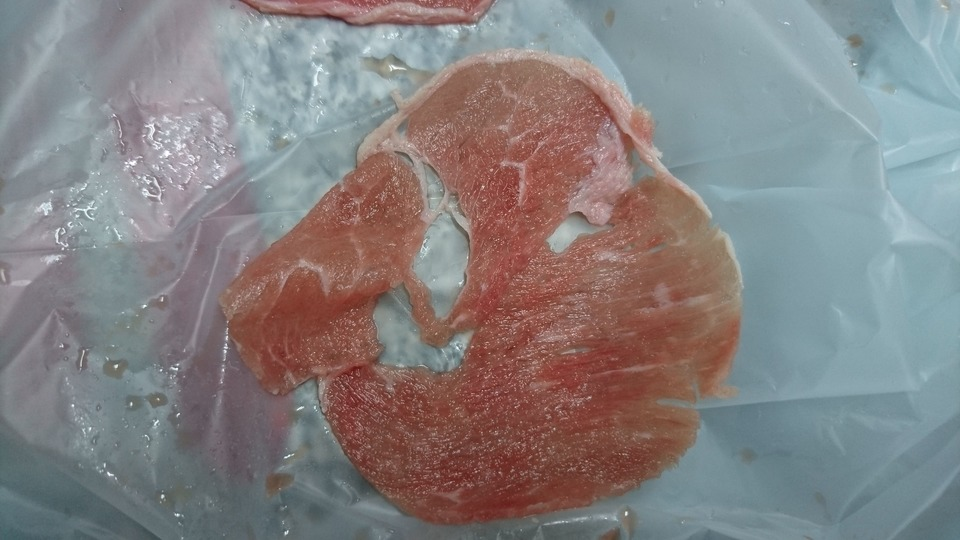restructured meat: (213, 58, 753, 499)
